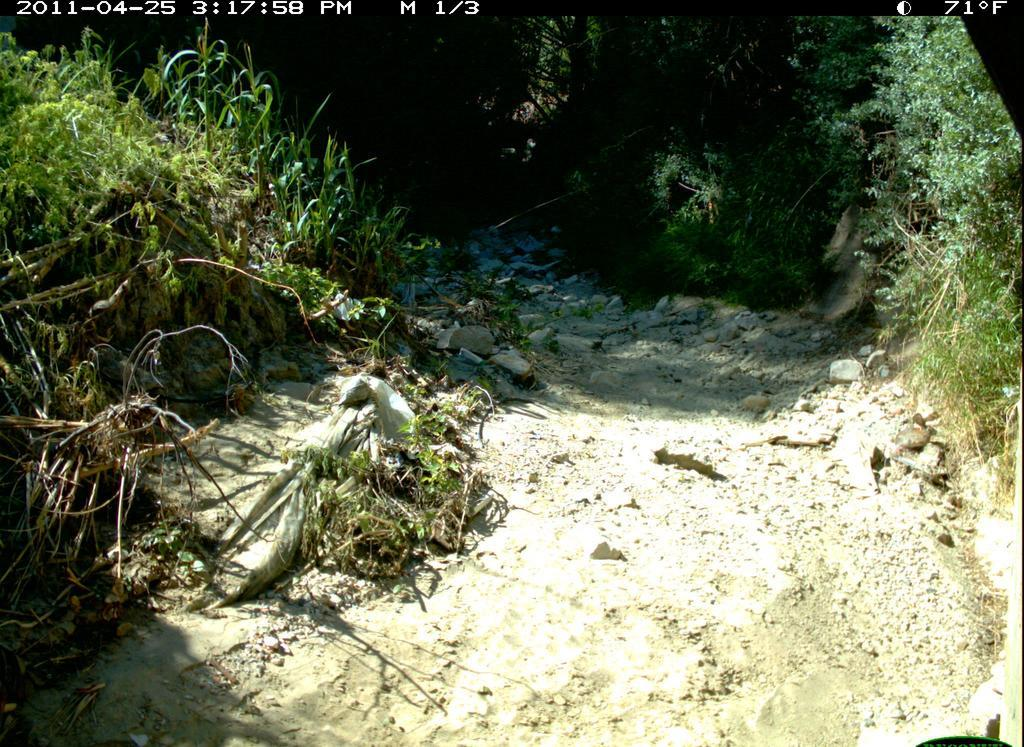rabbit: (888, 405, 943, 461)
